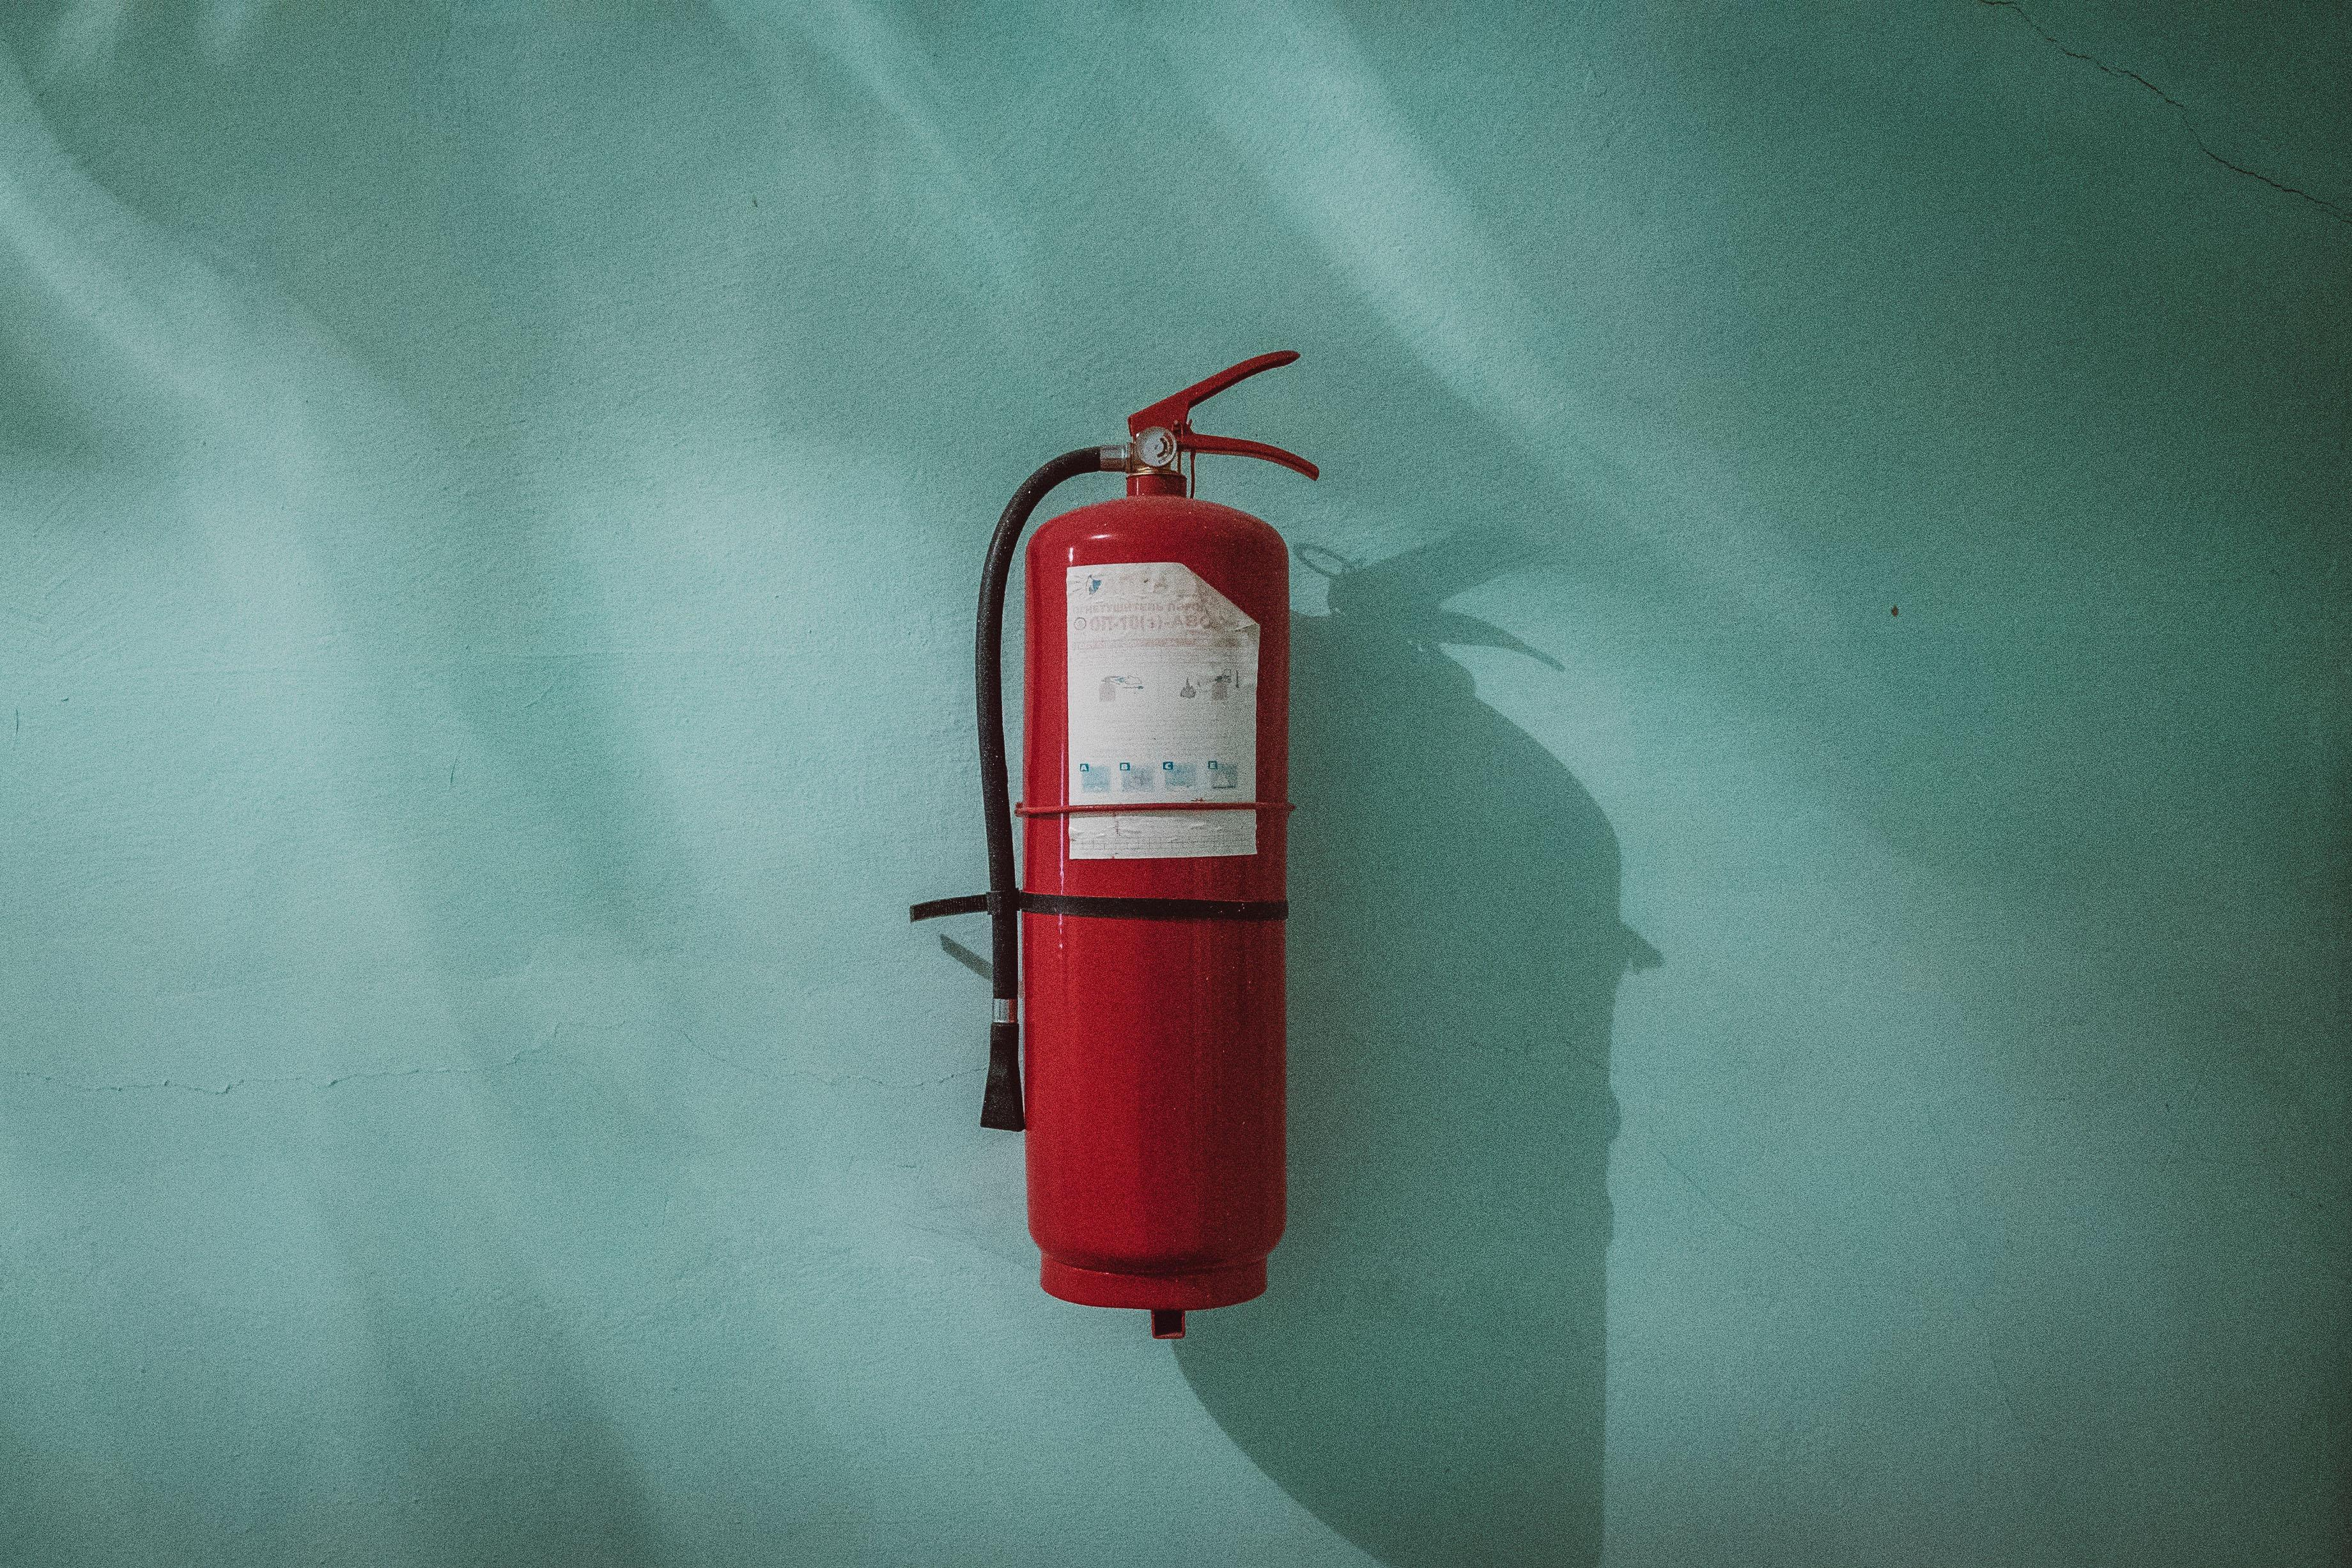Fire Extinguisher: (927, 255, 1361, 1361)
